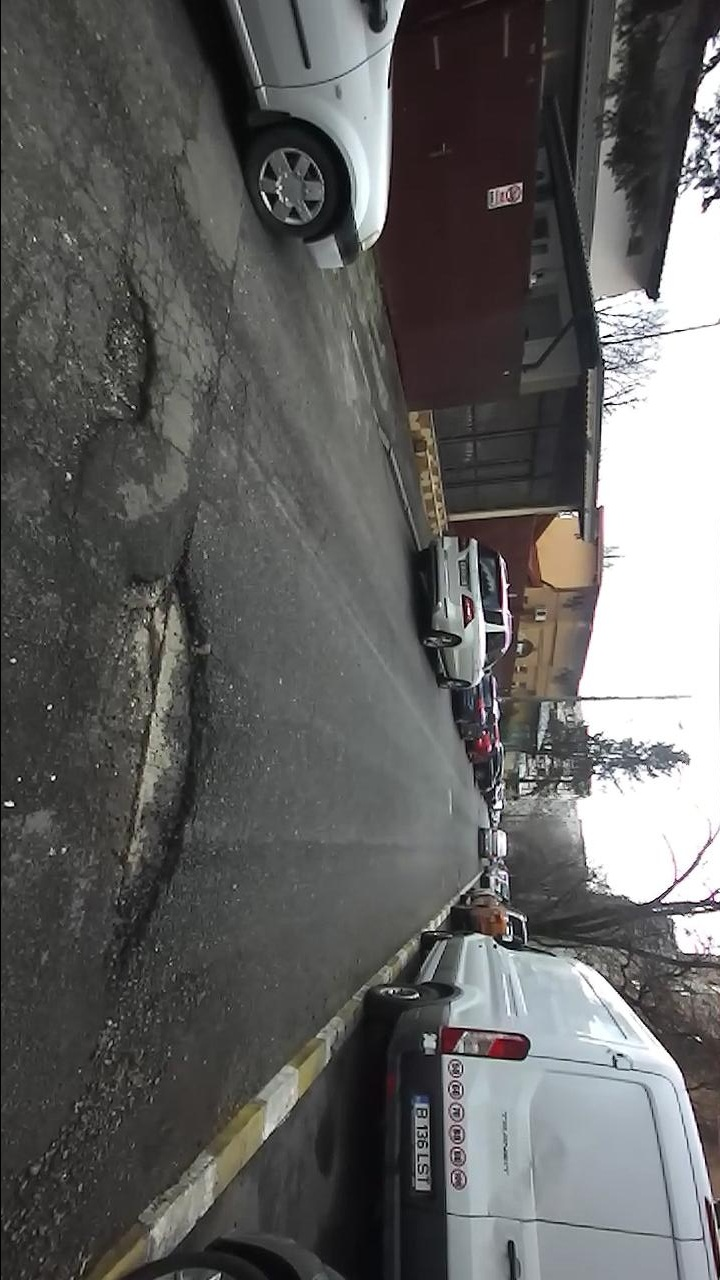pothole: (79, 534, 217, 988), (72, 261, 167, 448)
